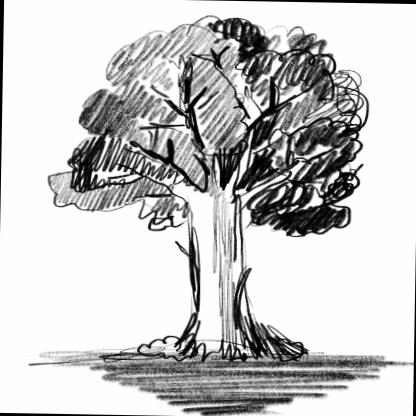branch_line: (100, 46, 334, 206)
crown_cloud: (48, 8, 375, 240)
root_none: (128, 326, 330, 382)
trunk_bark: (173, 231, 272, 322)
